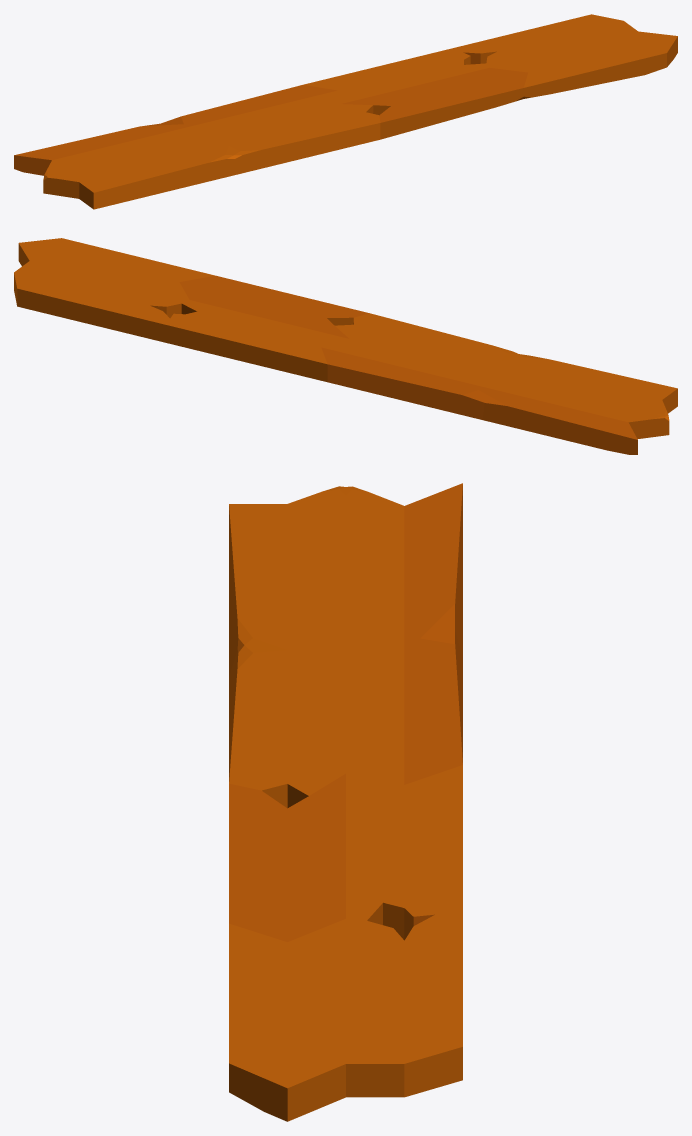
The model's file is Rotten wood_15.fbx.
The picture shows the model from 3 angles, top to bottom: view 1: azimuth 30°, elevation 25°; view 2: azimuth 150°, elevation 25°; view 3: azimuth 270°, elevation 25°; orthographic projection. The views are drawn at different scales.
Parts seen in each view (by area): view 1: Cube.110; view 2: Cube.110; view 3: Cube.110.
Part boxes in pixels (left/top/right/bottom): Cube.110: left=14, top=14, right=677, bottom=209; Cube.110: left=14, top=238, right=677, bottom=454; Cube.110: left=229, top=483, right=462, bottom=1121.
Size of the model in its own units: 79.98 by 2.07 by 13.07.
